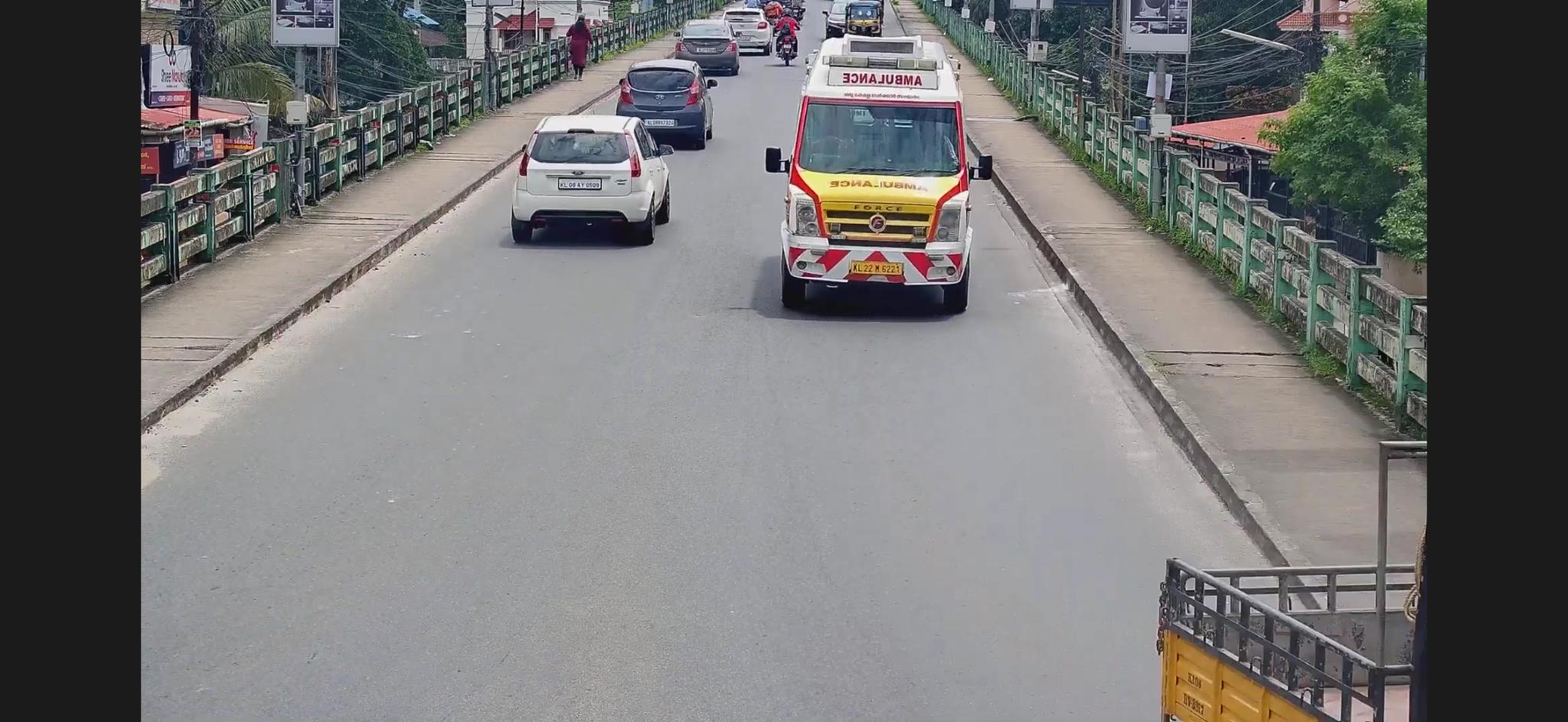ambulance: (763, 26, 983, 316)
